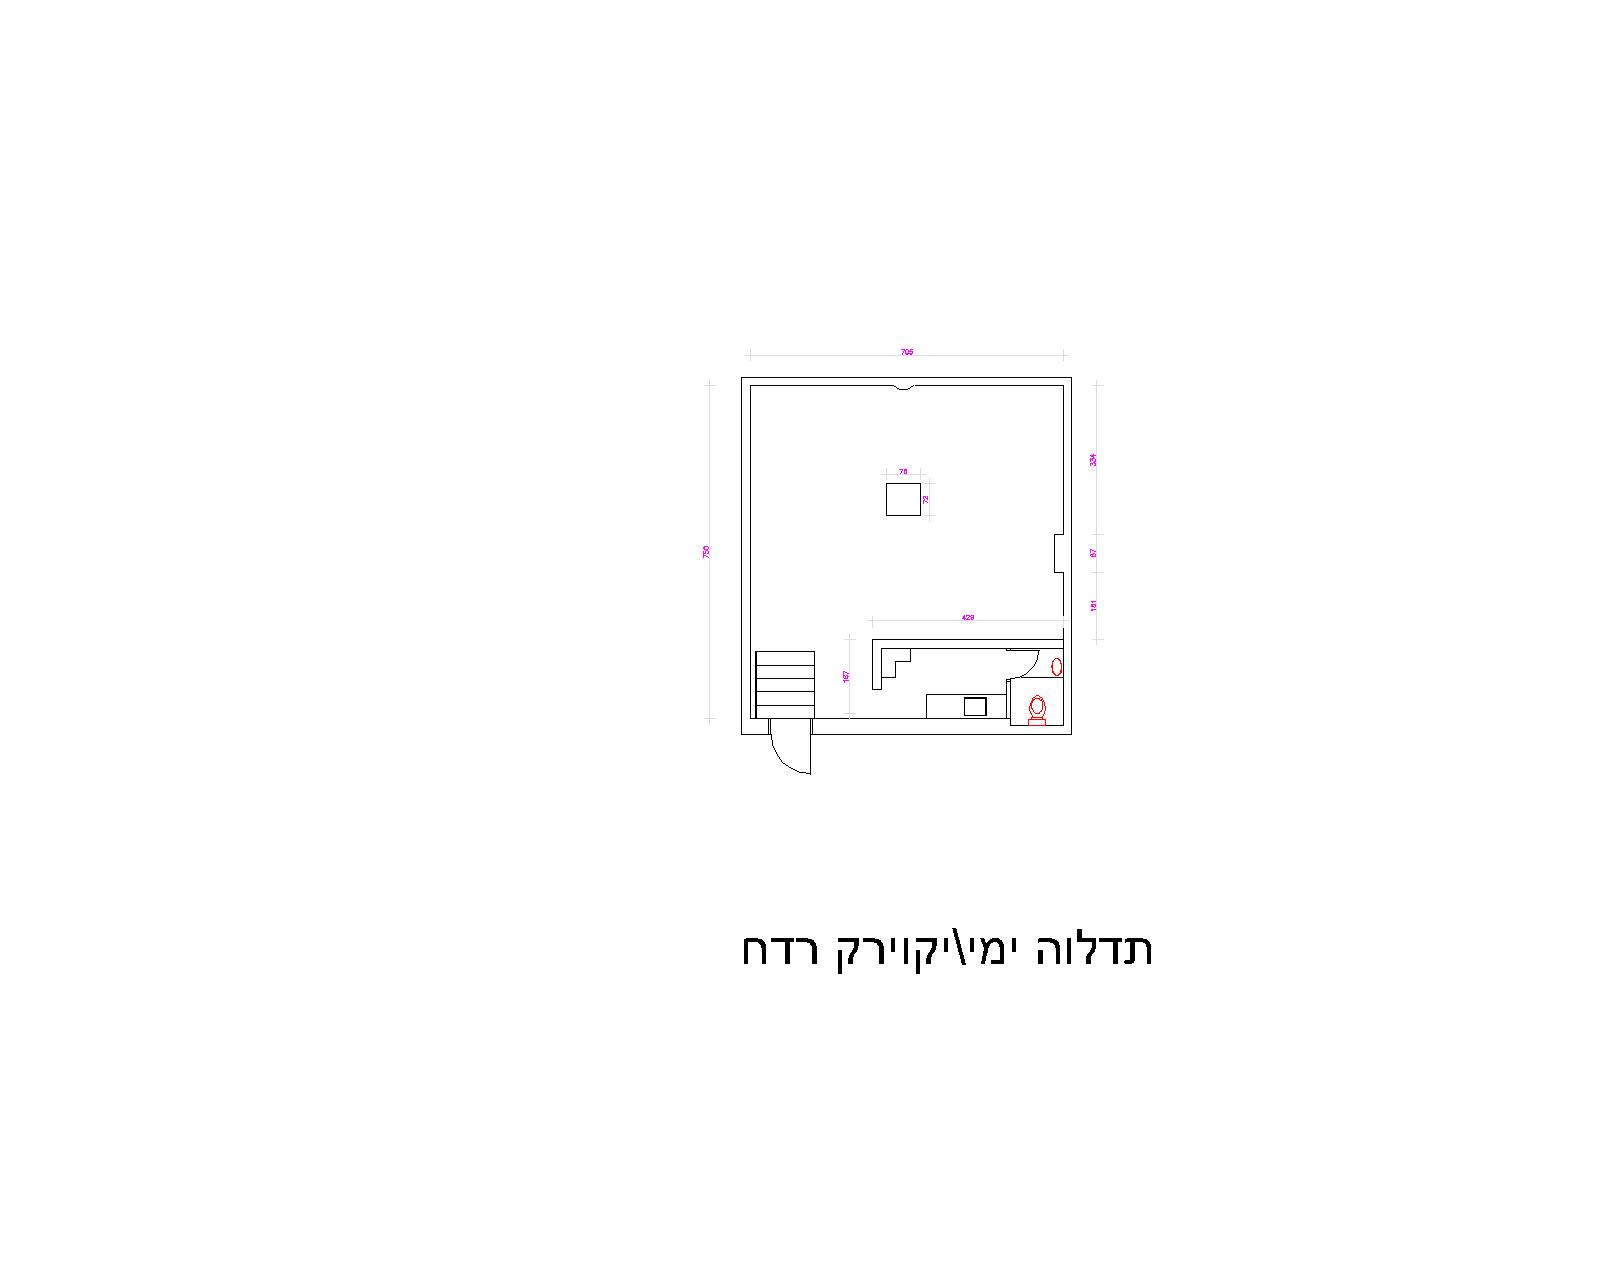door: (765, 739, 822, 784), (1004, 647, 1045, 677)
wall: (741, 381, 750, 731), (1063, 384, 1072, 734), (758, 376, 1061, 387)
